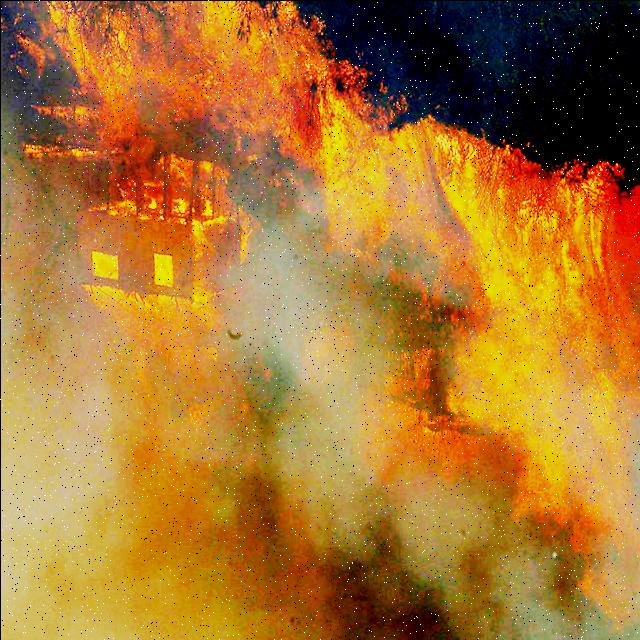api: (435, 134, 621, 545), (90, 159, 217, 372), (50, 7, 202, 112), (209, 1, 305, 142), (325, 69, 398, 238)
asap: (1, 434, 424, 632), (440, 550, 575, 640), (225, 269, 291, 383), (317, 263, 415, 337)
